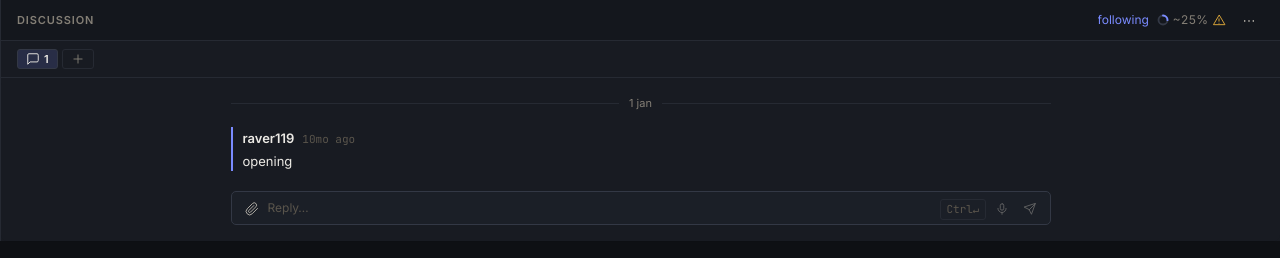
Test: the context indicator in the column header › DDS-FR-WRNB, DDS-FR-ZQVE: neither tooltip opens over the open discussion menu
The width and height of the screenshot is (1280, 258).
Step 1. Click the button named "Thread actions for disc-1" → (1249, 20), box left=1234, top=6, right=1264, bottom=34
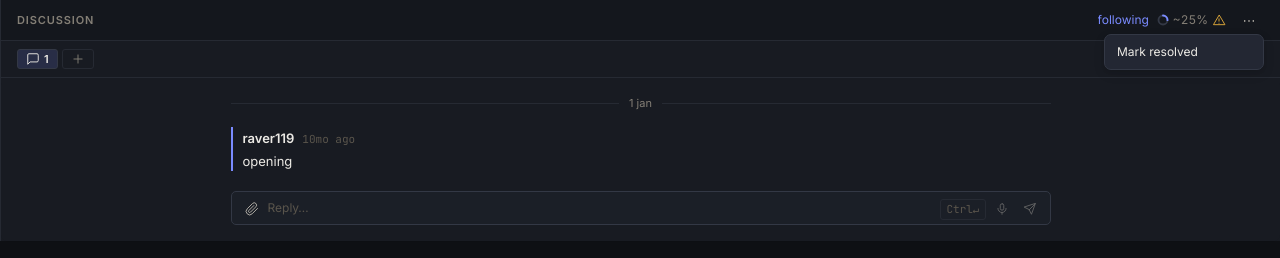
Step 2. Focus the element with test id "context-indicator" → (1182, 20), box left=1157, top=11, right=1208, bottom=29
Step 3. Focus the picture with test id "context-warning" → (1219, 20), box left=1212, top=13, right=1226, bottom=27
Step 4. Press Escape
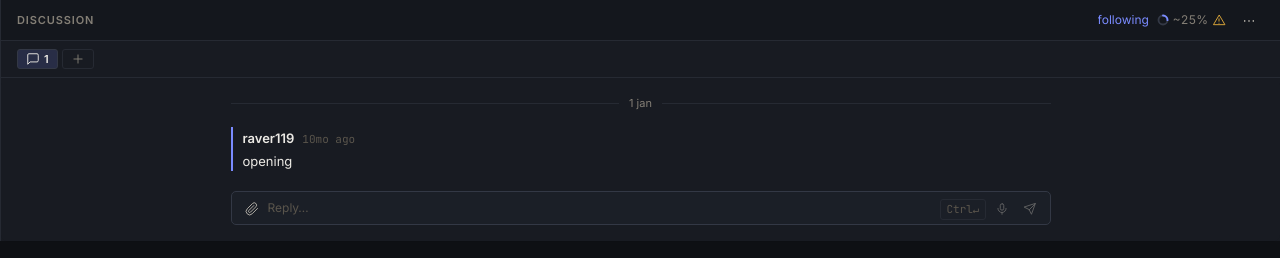
Step 5. Focus the element with test id "context-indicator" → (1182, 20), box left=1157, top=11, right=1208, bottom=29
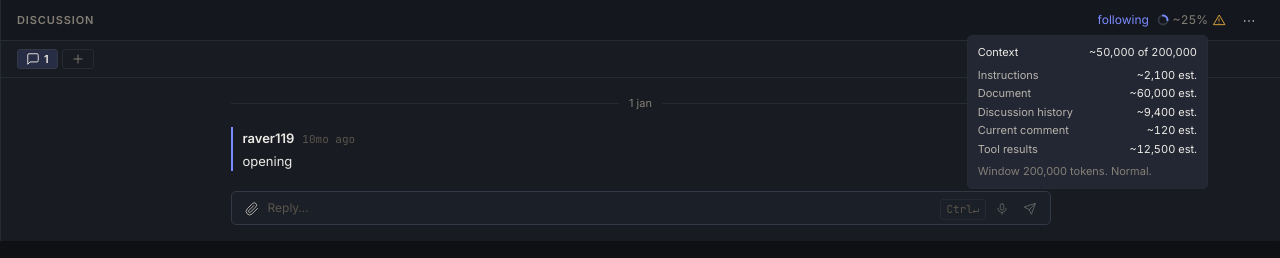
Now the element with test id "context-indicator-tip" is shown, box left=978, top=164, right=1152, bottom=178
